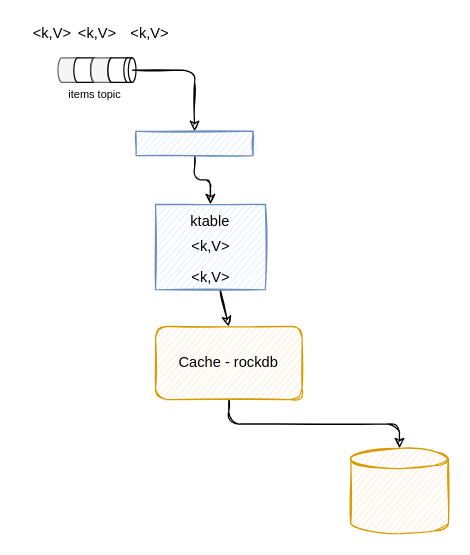
Some shapes in this 470 by 555 pixel diagram are drawn without their labels. Each missing label, with the centre of its shape:
"filesystem" belongs at (x=399, y=490).
"kstream" belongs at (x=194, y=143).
